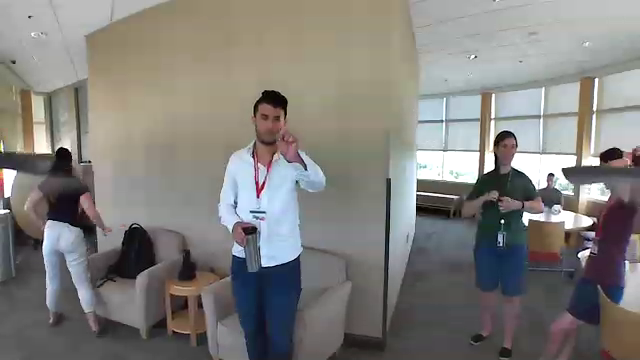up: (273, 106, 301, 165)
